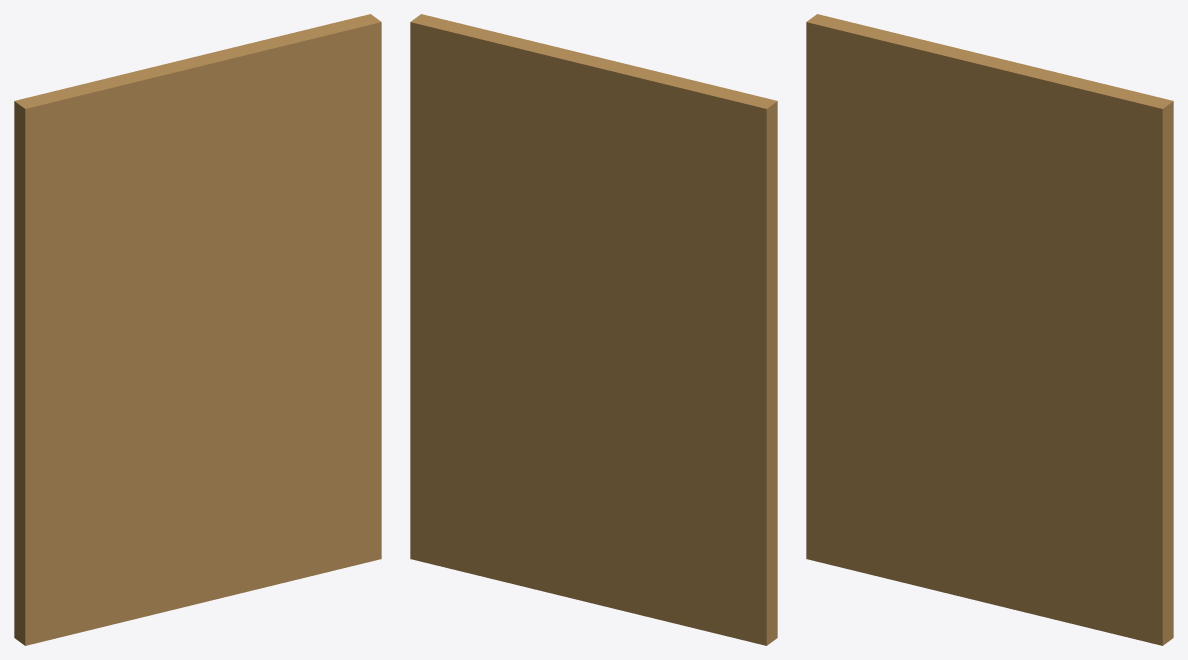
The picture shows the model from 3 angles, left to right: view 1: azimuth 30°, elevation 25°; view 2: azimuth 150°, elevation 25°; view 3: azimuth 330°, elevation 25°; orthographic projection.
Visible parts, largest first — view 1: FF-W174; view 2: FF-W174; view 3: FF-W174.
Part boxes in pixels (left/top/right/bottom): FF-W174: left=14, top=14, right=381, bottom=645; FF-W174: left=410, top=14, right=777, bottom=645; FF-W174: left=806, top=14, right=1173, bottom=645.
Bounding box in the file's own units: 1.68 × 2.42 × 0.09.
